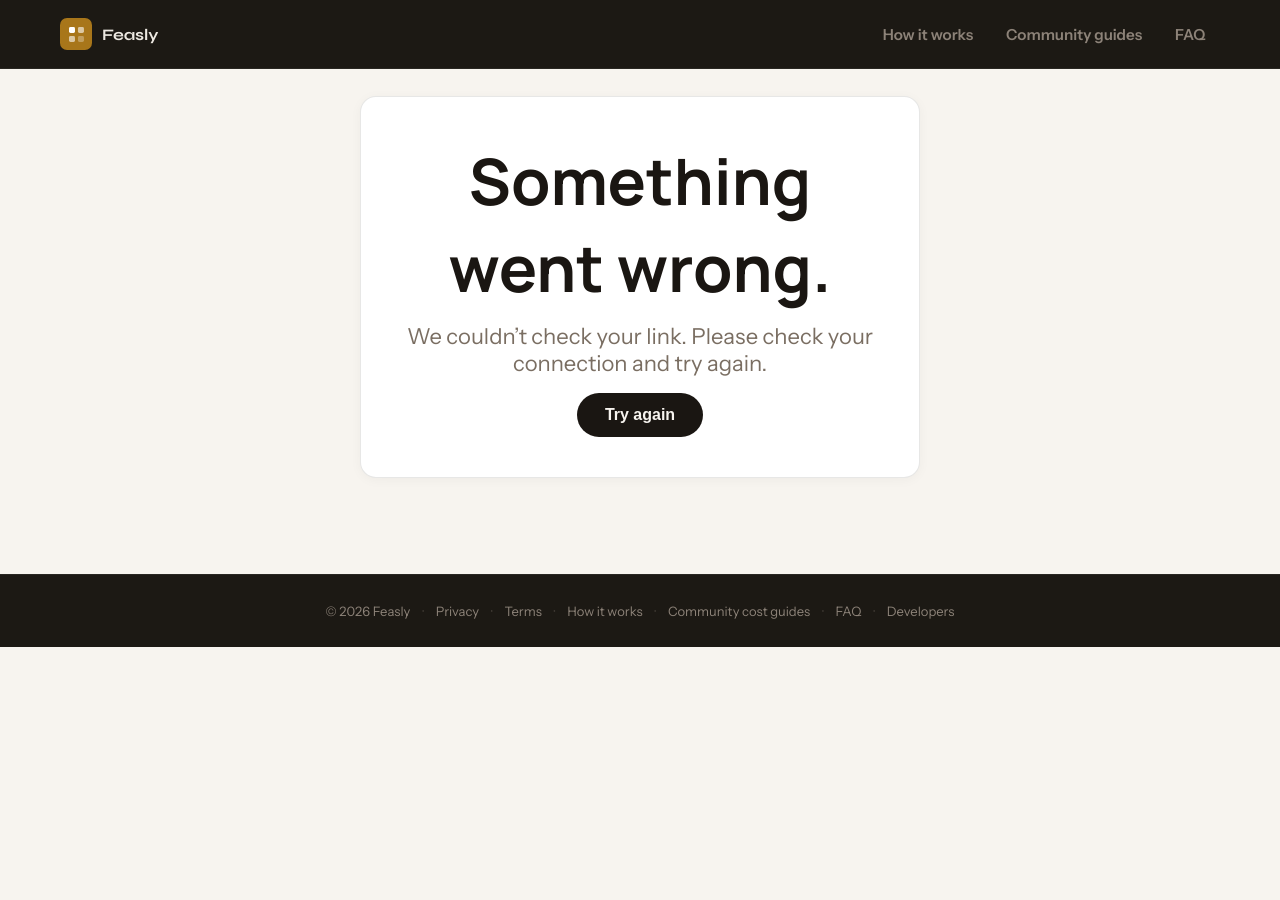
Test: UnsubscribePageComponent › shows the retry screen on transport failure and retries
This screenshot has width=1280, height=900.
Click the button with class "cta": [640, 415] box [577,393,703,437]
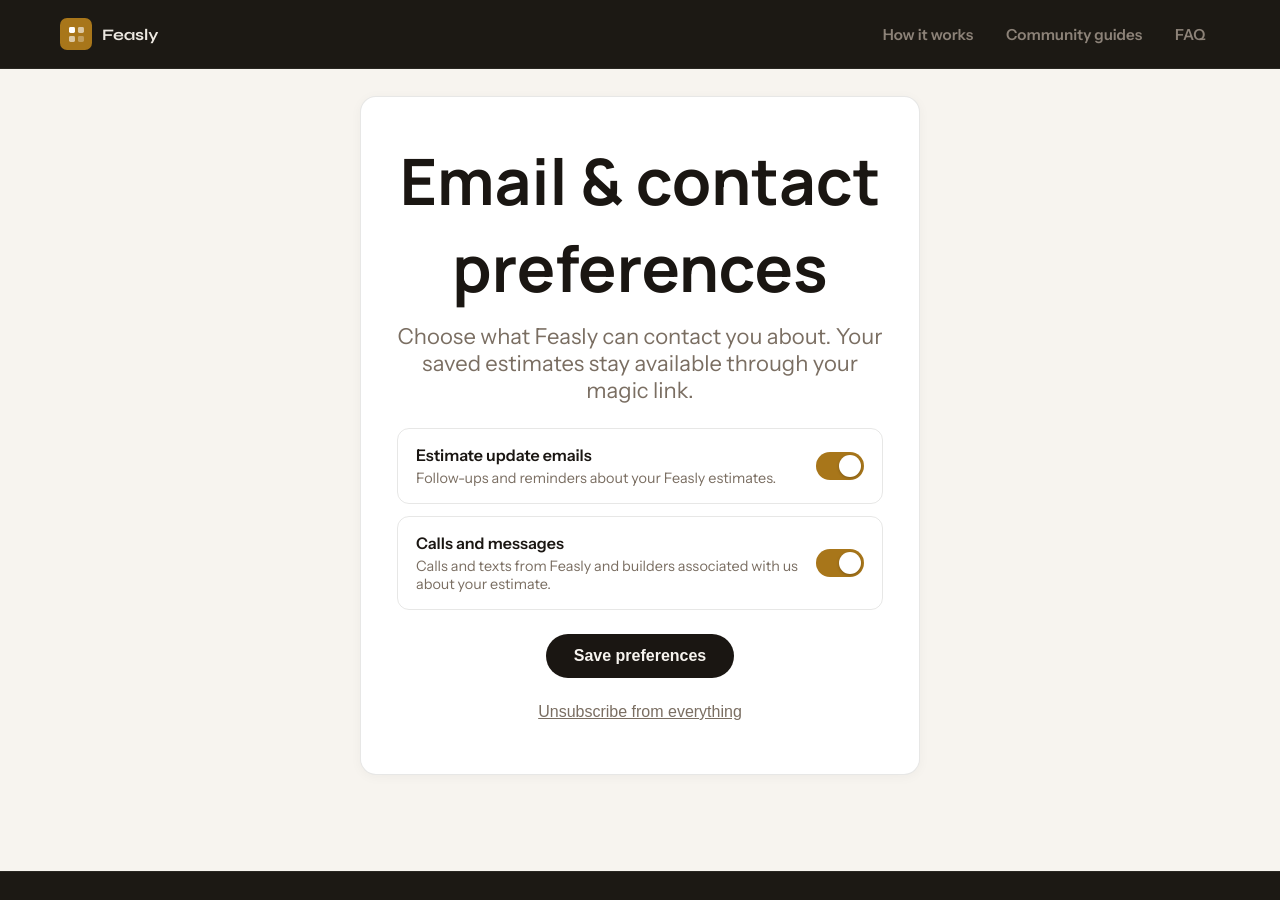
expect the text "Email & contact preferences" is shown: met, box [397,137,883,311]
